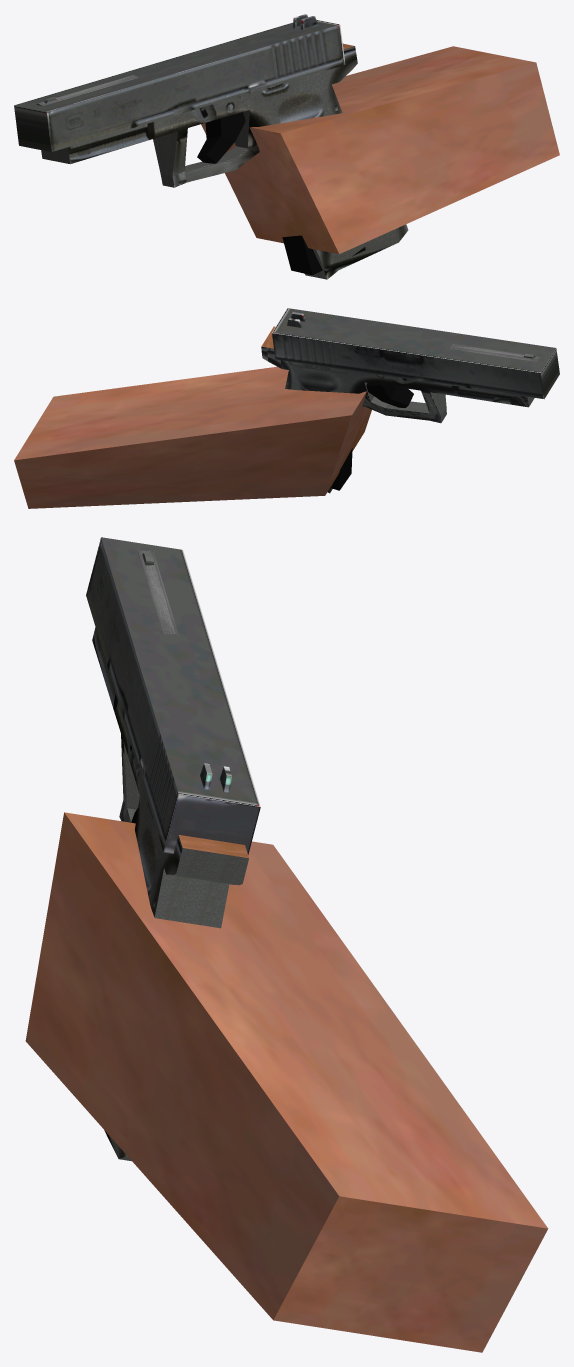
The model's file is pistol_000032.obj.
3 views of the same model, one above another, from view 1: azimuth 30°, elevation 25°; view 2: azimuth 150°, elevation 25°; view 3: azimuth 270°, elevation 25° (orthographic). The views are drawn at different scales.
Parts seen in each view (by area): view 1: Cube, Cube.001, Cube.003, Cube.002; view 2: Cube, Cube.001, Cube.003, Cube.002; view 3: Cube, Cube.001.
Part boxes in pixels (x1,y1,x2,y2): Cube: (36,43,559,279); Cube.001: (14,14,345,151); Cube.003: (197,112,245,163); Cube.002: (282,235,365,275); Cube: (14,326,540,508); Cube.001: (272,308,559,399); Cube.003: (366,383,413,407); Cube.002: (331,448,352,490); Cube: (25,550,548,1352); Cube.001: (86,537,260,854).
Bounding box in the file's own units: 1.75 × 0.7312 × 0.8807.
